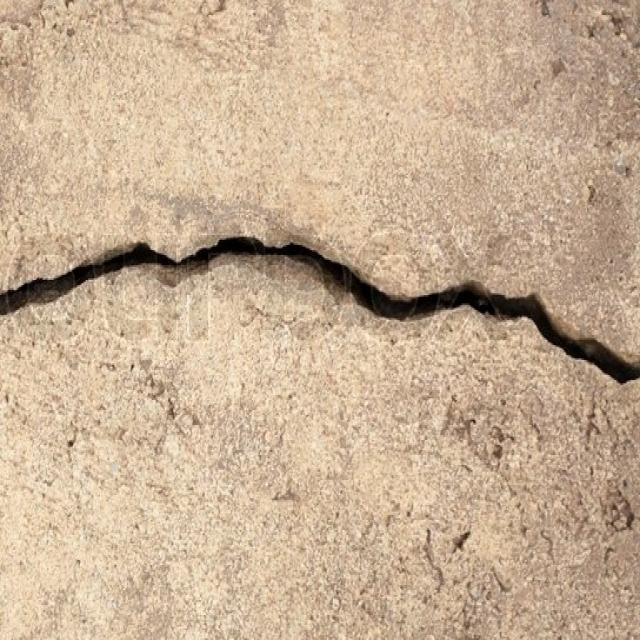Transverse: (0, 236, 636, 408)
